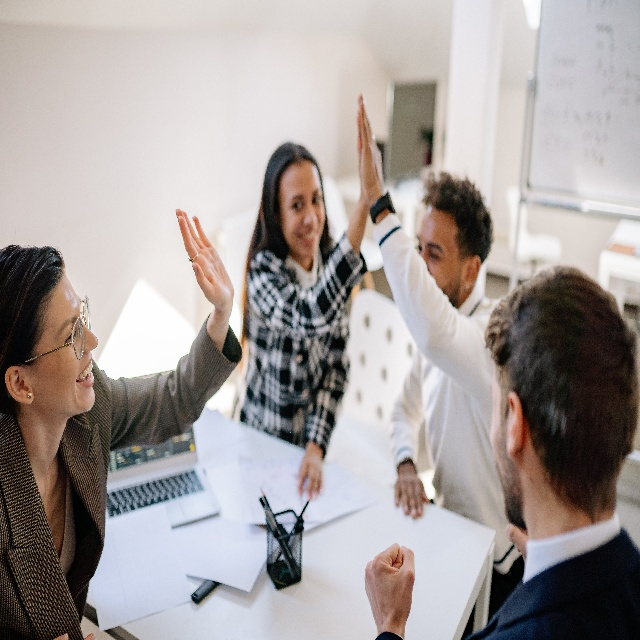Gafas: (18, 294, 92, 365)
Sin_guantes: (176, 206, 236, 312), (363, 543, 415, 635), (358, 98, 384, 202), (394, 468, 430, 519), (298, 448, 322, 499), (505, 523, 528, 562)
